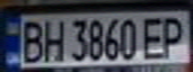0: (118, 16, 142, 61)
3: (66, 16, 87, 62)
6: (103, 16, 124, 61)
8: (87, 16, 106, 62)
B: (15, 17, 45, 64)
E: (139, 14, 169, 62)
H: (39, 16, 66, 63)
P: (157, 12, 190, 59)
